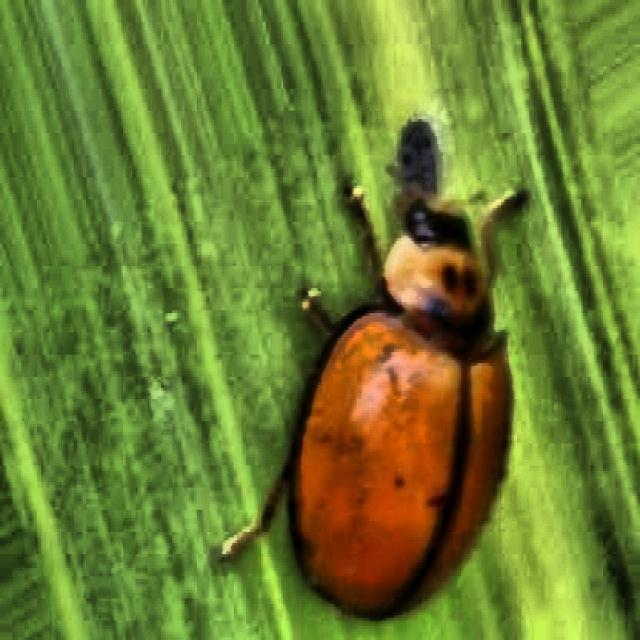Ladybug: (195, 79, 578, 626)
